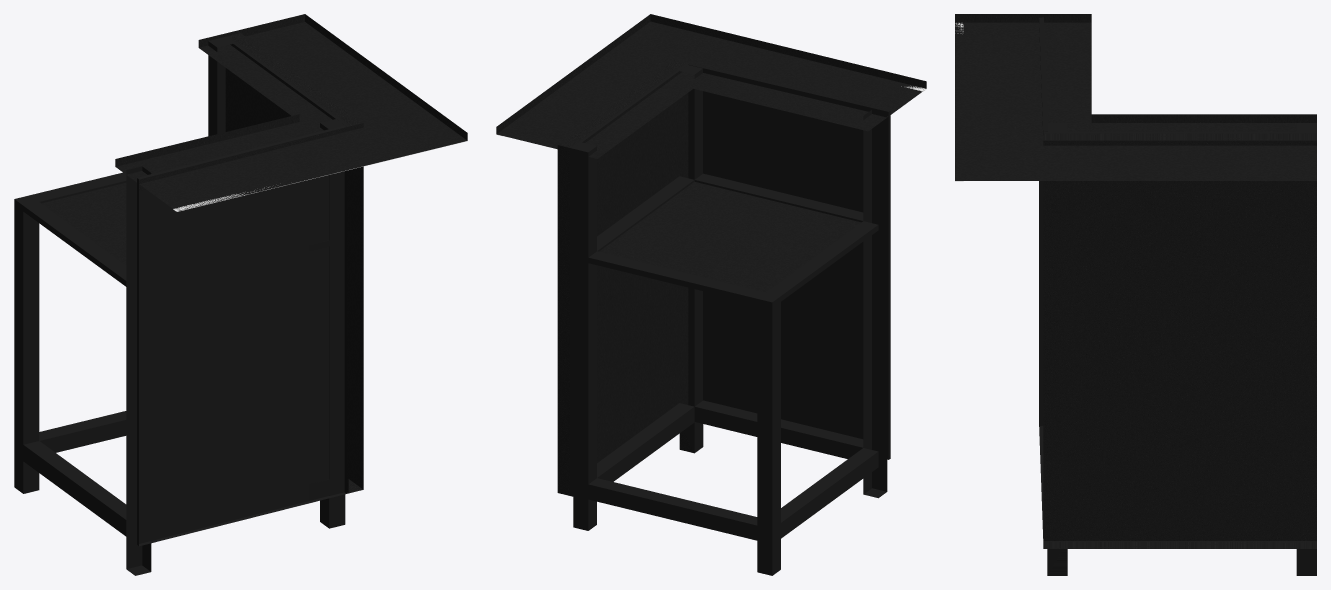
File: rog.glb
3 views of the same model, side by side, from view 1: azimuth 30°, elevation 25°; view 2: azimuth 150°, elevation 25°; view 3: azimuth 270°, elevation 25° (orthographic). The views are drawn at different scales.
Parts seen in each view (by area): view 1: BAR_MOD.001; view 2: BAR_MOD.001; view 3: BAR_MOD.001.
Part boxes in pixels (left/top/right/bottom): BAR_MOD.001: left=14, top=14, right=467, bottom=575; BAR_MOD.001: left=496, top=14, right=926, bottom=575; BAR_MOD.001: left=955, top=14, right=1316, bottom=575.
Bounding box in the file's own units: 0.9153 × 1.21 × 0.8858.
3 materials, 2 textured.
